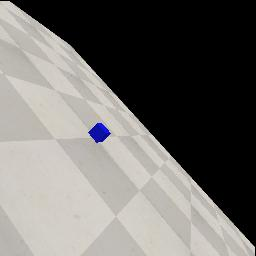box: (88, 123, 111, 143)
